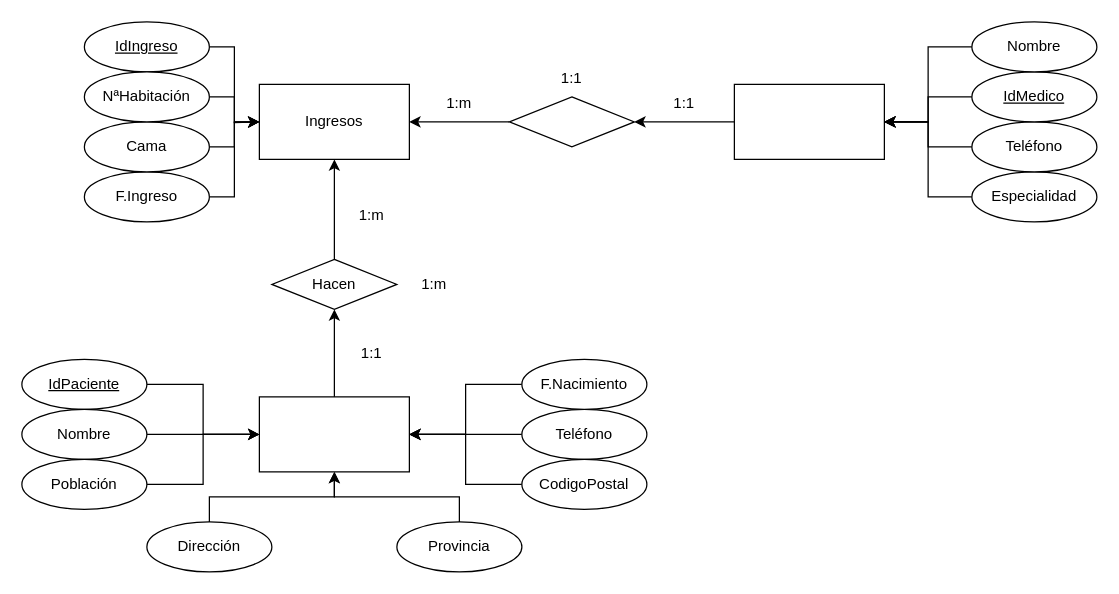
Some shapes in this 1119 by 594 pixel diagram are drawn without their labels. Each missing label, with the centre of its shape:
Atienden: the point at 571,121
Médicos: the point at 808,121
Pacientes: the point at 333,434
